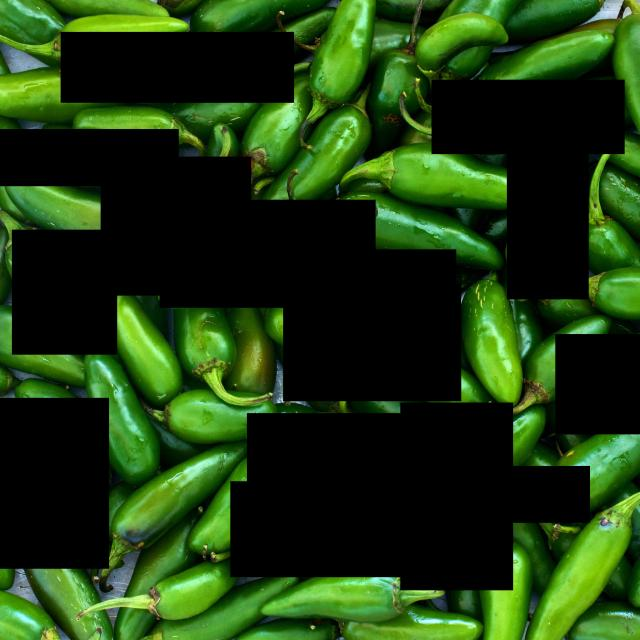Chili_Pepper: (159, 200, 376, 308), (400, 402, 513, 590), (283, 283, 461, 401), (101, 157, 251, 296), (230, 481, 446, 577), (0, 398, 109, 569), (61, 32, 294, 103), (247, 413, 442, 495), (432, 80, 625, 154), (507, 132, 589, 299), (12, 230, 116, 355), (0, 129, 179, 186), (278, 249, 456, 302), (556, 334, 640, 434), (513, 466, 590, 523), (59, 230, 102, 254), (512, 515, 513, 517)
